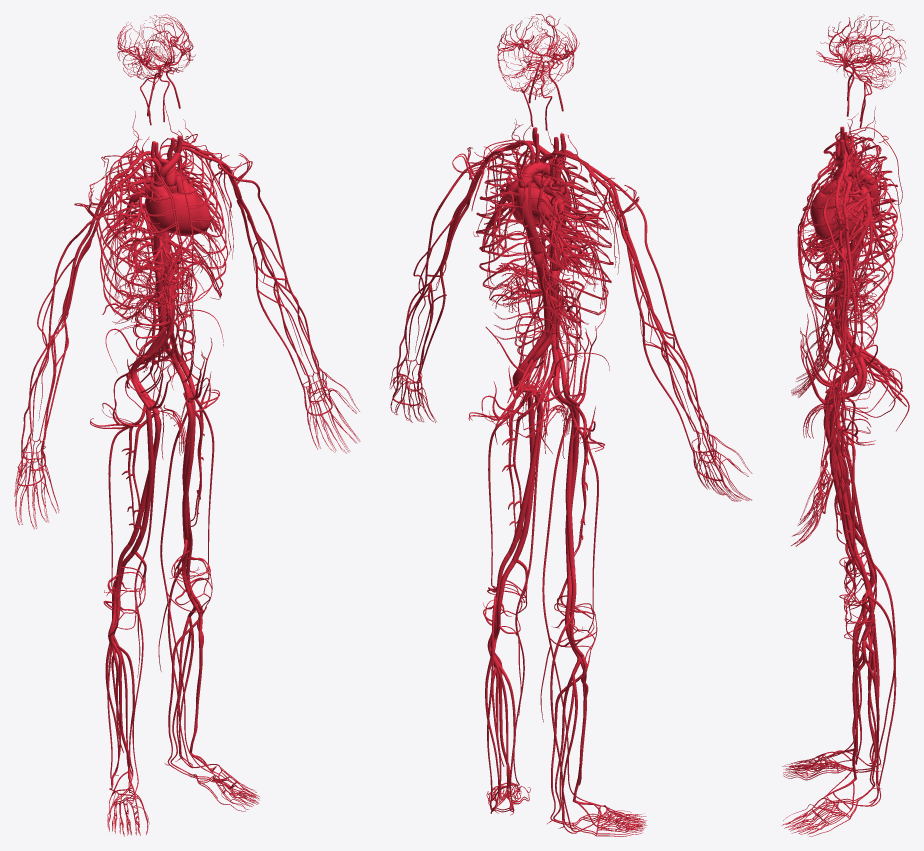
Rendered from cardiovascular.glb.
3 views of the same model, side by side, from view 1: azimuth 30°, elevation 25°; view 2: azimuth 150°, elevation 25°; view 3: azimuth 270°, elevation 25° (orthographic). The views are drawn at different scales.
Parts seen in each view (by area): view 1: SOMA_pericardium, FJ1994, FJ1961, FJ1985, FJ2103, FJ2143, FJ2145, FJ2272, FJ2074; view 2: FJ1994, FJ1961, FJ1985, FJ2145, FJ1975, FJ2103, FJ2102, FJ2144, FJ3427, SOMA_pericardium, FJ2272, FJ2074 (+1 smaller); view 3: FJ1985, FJ1975, SOMA_pericardium, FJ2220, FJ2103, FJ2074, FJ2102, FJ2145, FJ2121, FJ1994, FJ2218, FJ2176 (+17 smaller).
Boxes of the visible parts, box(x1,y1,x2,y2) form: SOMA_pericardium: box(145, 183, 210, 235); FJ1994: box(97, 146, 181, 318); FJ1961: box(96, 153, 179, 320); FJ1985: box(160, 138, 228, 295); FJ2103: box(158, 409, 215, 775); FJ2143: box(130, 394, 153, 554); FJ2145: box(132, 417, 161, 794); FJ2272: box(21, 185, 122, 458); FJ2074: box(182, 384, 195, 540); FJ1994: box(538, 158, 613, 323); FJ1961: box(524, 175, 613, 324); FJ1985: box(476, 148, 546, 300); FJ2145: box(540, 413, 600, 805); FJ1975: box(476, 166, 539, 301); FJ2103: box(513, 407, 543, 785); FJ2102: box(508, 398, 541, 556); FJ2144: box(565, 407, 574, 569); FJ3427: box(516, 186, 550, 330); SOMA_pericardium: box(511, 179, 571, 230); FJ2272: box(604, 175, 712, 458); FJ2074: box(511, 392, 535, 563); FJ1985: box(799, 154, 897, 323); FJ1975: box(800, 165, 897, 324); SOMA_pericardium: box(810, 180, 866, 242); FJ2220: box(823, 190, 849, 488); FJ2103: box(824, 416, 877, 797); FJ2074: box(829, 399, 856, 562); FJ2102: box(823, 404, 858, 554); FJ2145: box(824, 397, 877, 757); FJ2121: box(859, 596, 896, 806); FJ1994: box(800, 136, 897, 276); FJ2218: box(831, 247, 856, 473); FJ2176: box(858, 563, 896, 766).
Size of the model in its own units: 0.7943 by 1.71 by 0.2536.
